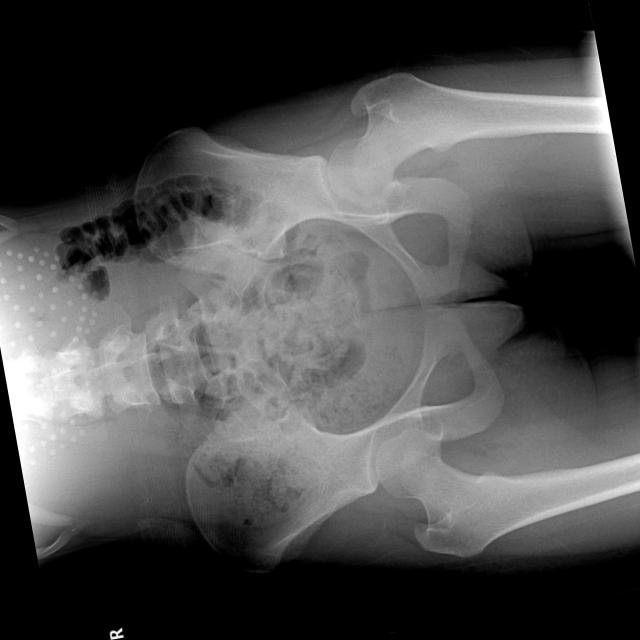normal-left: (327, 71, 546, 204)
normal-right: (375, 426, 620, 556)
